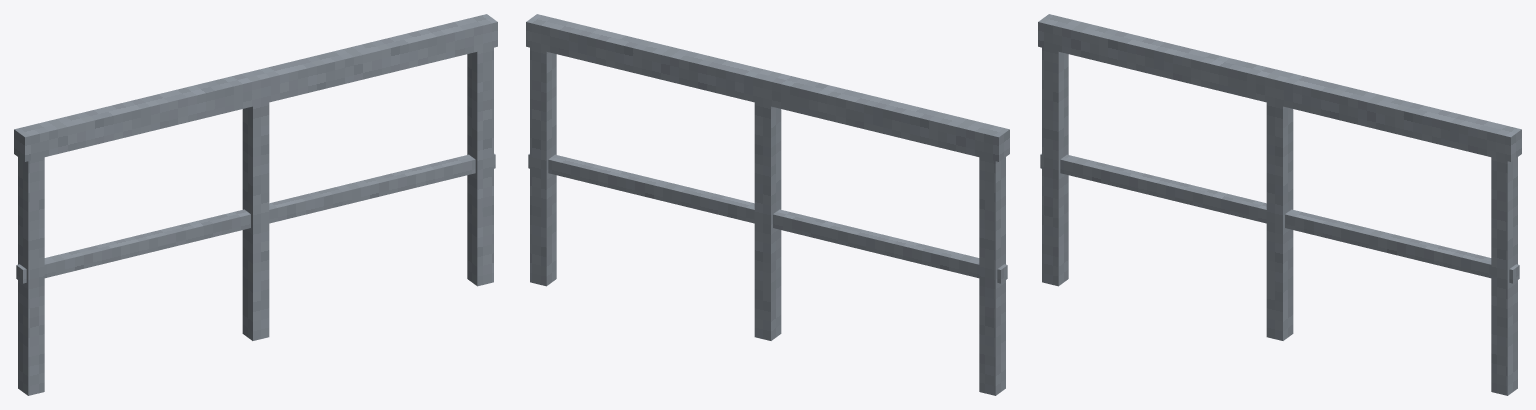
Rendered from level_blockout_guardrail.glb.
3 views of the same model, side by side, from view 1: azimuth 30°, elevation 25°; view 2: azimuth 150°, elevation 25°; view 3: azimuth 330°, elevation 25° (orthographic).
Visible parts, largest first — view 1: level_blockout_guardrail; view 2: level_blockout_guardrail; view 3: level_blockout_guardrail.
Boxes of the visible parts, <box> form: level_blockout_guardrail: <box>14,14,497,395</box>; level_blockout_guardrail: <box>526,14,1009,395</box>; level_blockout_guardrail: <box>1038,14,1521,395</box>.
Size of the model in its own units: 2 by 1.05 by 0.08.
1 material, 1 textured.
